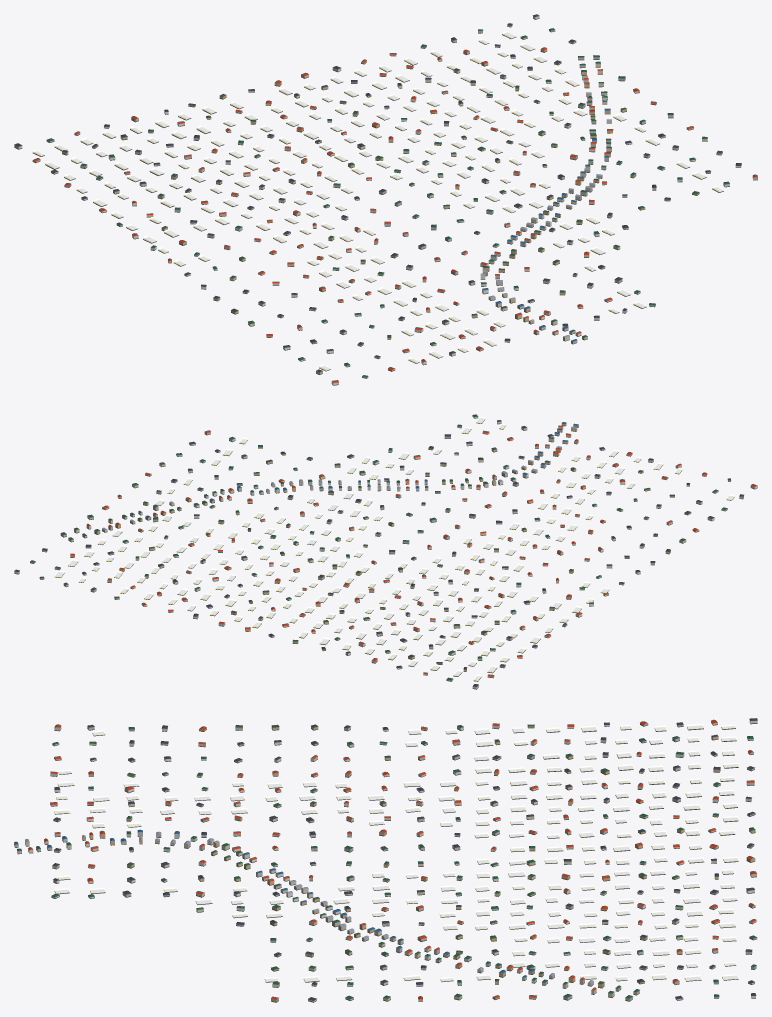
Rendered from buildings_T_W04_N04.glb.
3 views of the same model, one above another, from view 1: azimuth 30°, elevation 25°; view 2: azimuth 150°, elevation 25°; view 3: azimuth 270°, elevation 25° (orthographic). The views are drawn at different scales.
Parts seen in each view (by area): view 1: T_W04_N04_roofs_agri_greenhouse_arch, T_W04_N04_slope_seating_foundations, T_W04_N04_roofs_roof_pine_green_hip, T_W04_N04_roofs_roof_terracotta_gable, T_W04_N04_walls_wall_pastel_sand_gray, T_W04_N04_walls_wall_french_ochre_villa, T_W04_N04_roofs_roof_slate_French_villa_hip, T_W04_N04_walls_wall_dalat_cream_stucco, T_W04_N04_walls_wall_modern_warm_white; view 2: T_W04_N04_roofs_agri_greenhouse_arch, T_W04_N04_slope_seating_foundations, T_W04_N04_roofs_roof_pine_green_hip, T_W04_N04_roofs_roof_terracotta_gable, T_W04_N04_walls_wall_pastel_sand_gray, T_W04_N04_walls_wall_french_ochre_villa, T_W04_N04_roofs_roof_slate_French_villa_hip, T_W04_N04_walls_wall_dalat_cream_stucco, T_W04_N04_walls_wall_modern_warm_white; view 3: T_W04_N04_roofs_agri_greenhouse_arch, T_W04_N04_slope_seating_foundations, T_W04_N04_roofs_roof_pine_green_hip, T_W04_N04_roofs_roof_terracotta_gable, T_W04_N04_walls_wall_pastel_sand_gray, T_W04_N04_walls_wall_french_ochre_villa, T_W04_N04_roofs_roof_slate_French_villa_hip, T_W04_N04_walls_wall_dalat_cream_stucco, T_W04_N04_walls_wall_modern_warm_white.
Part boxes in pixels (box(x1,y1,x2,y2)): T_W04_N04_roofs_agri_greenhouse_arch: box(32, 31, 723, 370); T_W04_N04_slope_seating_foundations: box(14, 18, 757, 385); T_W04_N04_roofs_roof_pine_green_hip: box(46, 28, 729, 377); T_W04_N04_roofs_roof_terracotta_gable: box(33, 47, 757, 382); T_W04_N04_walls_wall_pastel_sand_gray: box(46, 29, 757, 378); T_W04_N04_walls_wall_french_ochre_villa: box(62, 49, 699, 371); T_W04_N04_roofs_roof_slate_French_villa_hip: box(14, 14, 741, 372); T_W04_N04_walls_wall_dalat_cream_stucco: box(32, 37, 722, 366); T_W04_N04_walls_wall_modern_warm_white: box(14, 16, 741, 385); T_W04_N04_roofs_agri_greenhouse_arch: box(54, 416, 734, 680); T_W04_N04_slope_seating_foundations: box(14, 416, 757, 689); T_W04_N04_roofs_roof_pine_green_hip: box(30, 414, 731, 680); T_W04_N04_roofs_roof_terracotta_gable: box(70, 425, 757, 676); T_W04_N04_walls_wall_pastel_sand_gray: box(30, 424, 743, 681); T_W04_N04_walls_wall_french_ochre_villa: box(70, 447, 707, 671); T_W04_N04_roofs_roof_slate_French_villa_hip: box(14, 420, 743, 686); T_W04_N04_walls_wall_dalat_cream_stucco: box(54, 423, 718, 677); T_W04_N04_walls_wall_modern_warm_white: box(14, 415, 757, 688); T_W04_N04_roofs_agri_greenhouse_arch: box(54, 723, 738, 981); T_W04_N04_slope_seating_foundations: box(14, 722, 757, 1002); T_W04_N04_roofs_roof_pine_green_hip: box(17, 724, 756, 999); T_W04_N04_roofs_roof_terracotta_gable: box(28, 719, 756, 999); T_W04_N04_walls_wall_pastel_sand_gray: box(14, 723, 757, 1001); T_W04_N04_walls_wall_french_ochre_villa: box(53, 726, 755, 999); T_W04_N04_roofs_roof_slate_French_villa_hip: box(52, 718, 757, 1000); T_W04_N04_walls_wall_dalat_cream_stucco: box(17, 721, 756, 1001); T_W04_N04_walls_wall_modern_warm_white: box(28, 720, 757, 1001).
Bounding box in the file's own units: 1656 × 41.17 × 1830.
